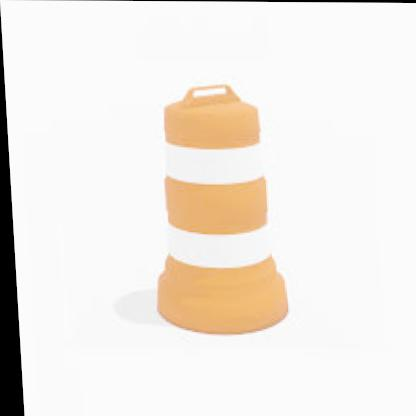obstacle: (128, 84, 285, 318)
